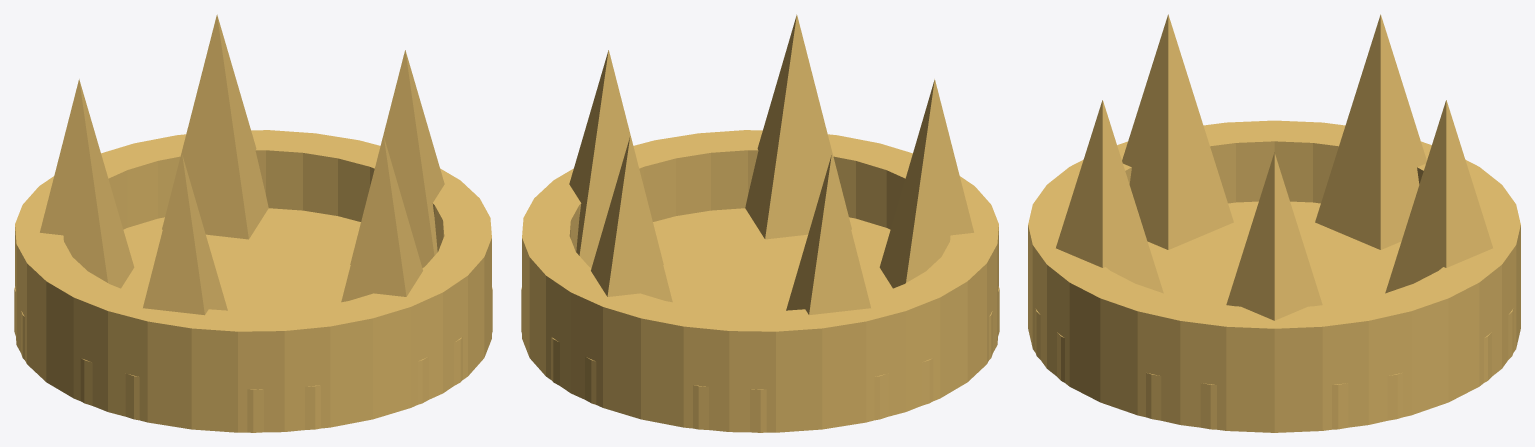
File: acc_crown.glb
3 views of the same model, side by side, from view 1: azimuth 30°, elevation 25°; view 2: azimuth 150°, elevation 25°; view 3: azimuth 270°, elevation 25° (orthographic). The views are drawn at different scales.
Visible parts, largest first — view 1: first-player-crown; view 2: first-player-crown; view 3: first-player-crown.
Part boxes in pixels (x1,y1,x2,y2): first-player-crown: [14, 14, 492, 432]; first-player-crown: [521, 14, 999, 432]; first-player-crown: [1028, 14, 1520, 432].
Bounding box in the file's own units: 0.03 × 0.017 × 0.03.
